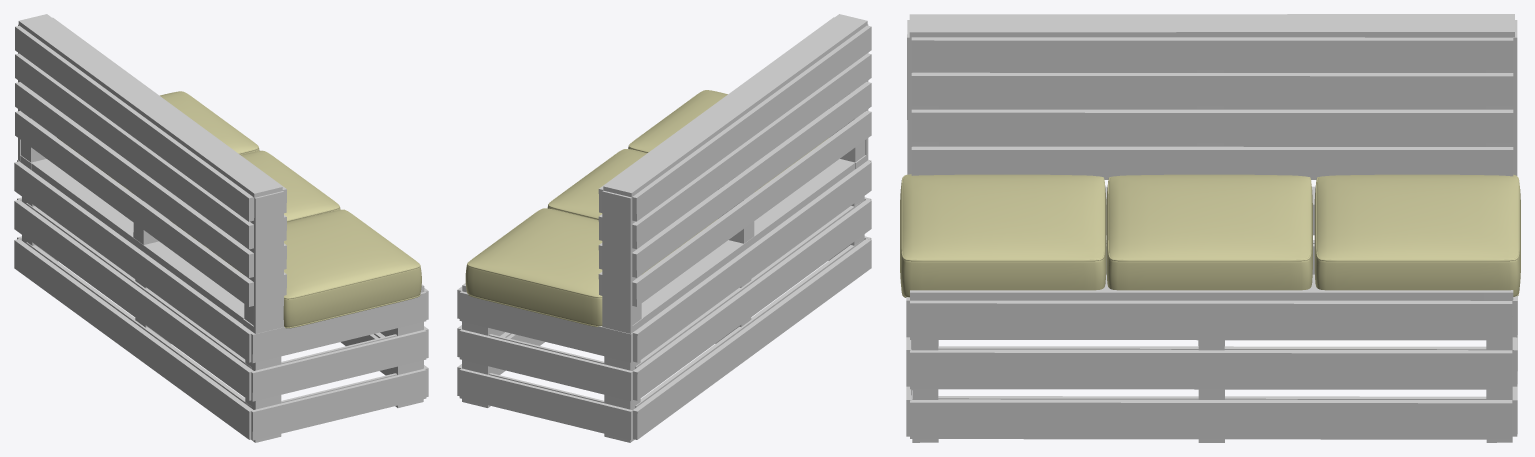
The model's file is sofaCushionsSetTriple.glb.
3 renders of one model, left to right at view 1: azimuth 30°, elevation 25°; view 2: azimuth 150°, elevation 25°; view 3: azimuth 270°, elevation 25°, orthographic. The views are drawn at different scales.
Parts seen in each view (by area): view 1: bench, cushion, welting; view 2: bench, cushion, welting; view 3: bench, cushion, welting.
Part boxes in pixels (<box>): bench: <box>14,14,428,442</box>; cushion: <box>57,91,421,327</box>; welting: <box>160,91,420,328</box>; bench: <box>457,14,871,442</box>; cushion: <box>465,90,828,325</box>; welting: <box>467,90,724,326</box>; bench: <box>906,14,1517,442</box>; cushion: <box>900,174,1520,297</box>; welting: <box>901,174,1519,297</box>.
Size of the model in its own units: 1.46 by 1.94 by 3.39.
